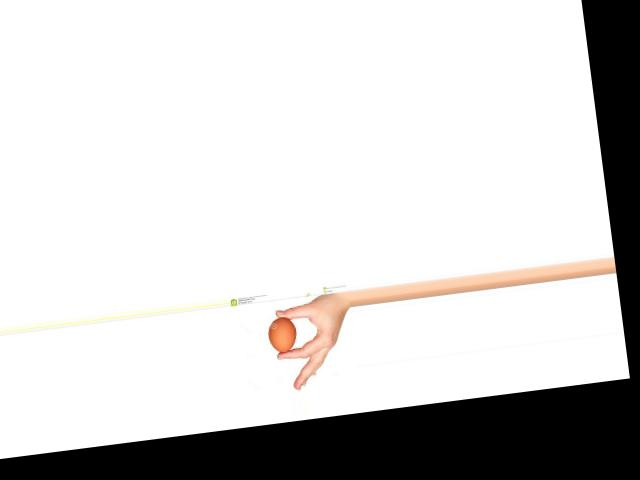egg: (266, 314, 299, 353)
